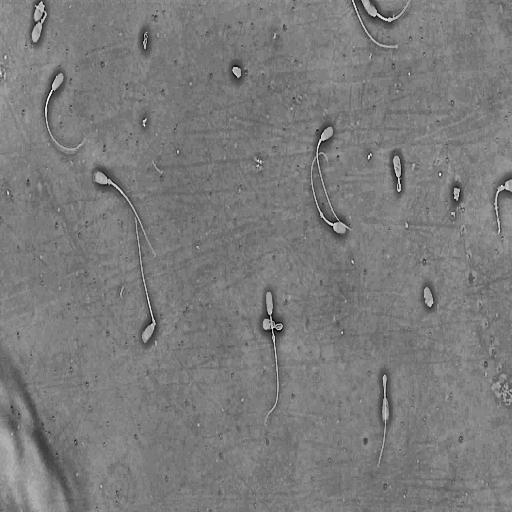coiled-tail: (263, 322, 283, 331), (397, 174, 402, 193), (398, 180, 401, 190)
dirt-particles: (230, 60, 243, 83), (140, 29, 150, 53), (451, 183, 462, 204)
distal-droplet: (272, 334, 275, 343), (320, 212, 324, 218), (45, 106, 47, 114)
folded-tail: (135, 219, 156, 327), (378, 374, 387, 464)
loose-head: (31, 0, 46, 26), (422, 283, 435, 310)
loose-tail: (349, 0, 403, 56)
normal: (94, 168, 158, 262), (315, 125, 353, 232), (44, 72, 86, 152), (310, 151, 348, 235), (133, 213, 156, 345), (264, 286, 280, 426), (374, 370, 391, 469), (391, 149, 404, 195), (261, 316, 285, 334)
proximal-droplet: (107, 178, 111, 185)
